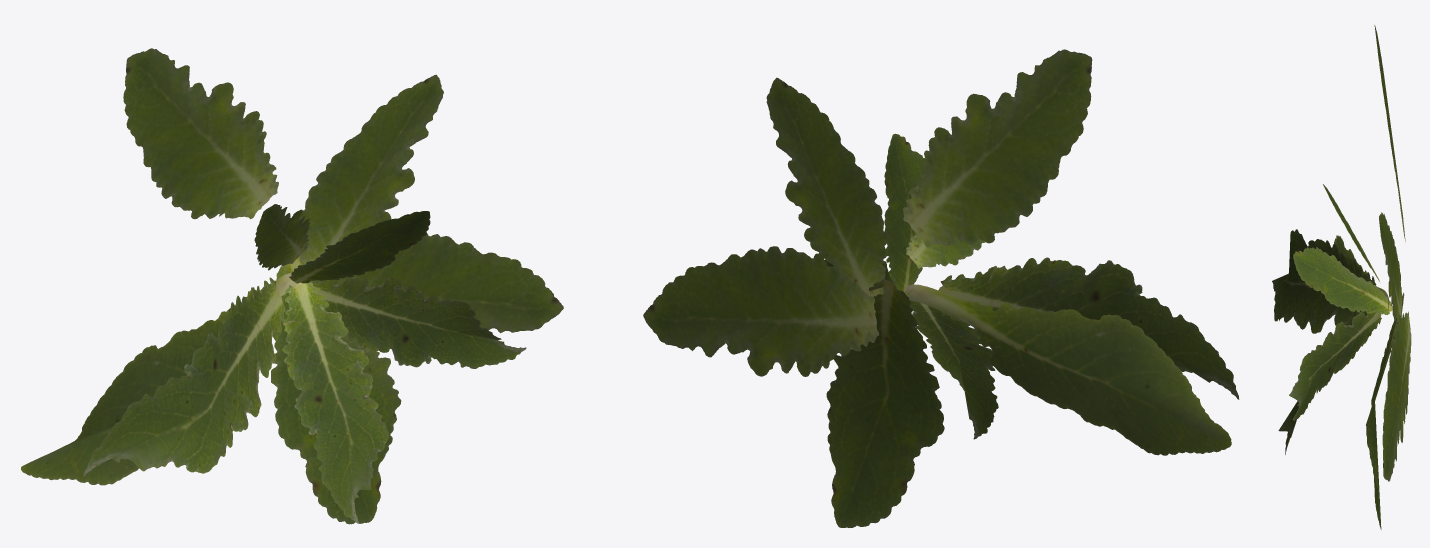
File: Weed_01_Var3_LOD2.fbx
3 renders of one model, left to right at view 1: azimuth 30°, elevation 25°; view 2: azimuth 150°, elevation 25°; view 3: azimuth 270°, elevation 25°, orthographic. The views are drawn at different scales.
Parts seen in each view (by area): view 1: Var3_LOD2; view 2: Var3_LOD2; view 3: Var3_LOD2.
Boxes of the visible parts, left/top/right/bottom form: Var3_LOD2: left=21, top=48, right=563, bottom=524; Var3_LOD2: left=643, top=49, right=1239, bottom=527; Var3_LOD2: left=1272, top=25, right=1411, bottom=529.
Size of the model in its own units: 19.99 by 18.02 by 5.35.
